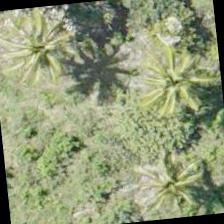Kelapa_Sawit: (134, 37, 223, 136), (0, 2, 90, 98), (128, 133, 223, 223)
